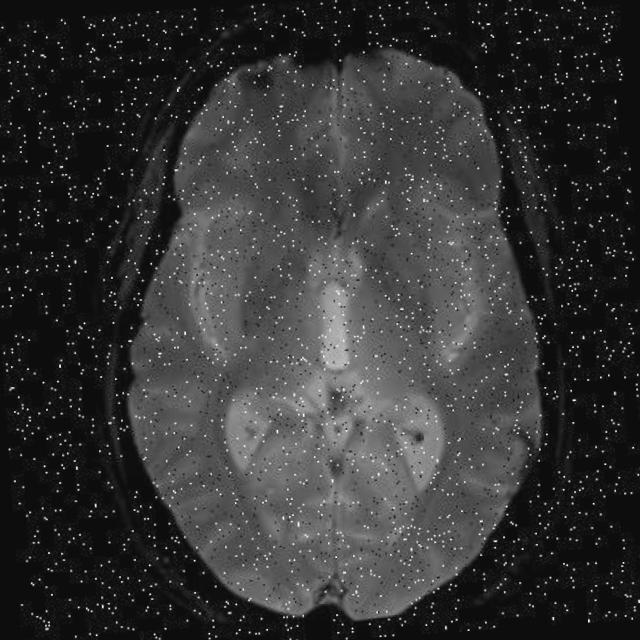MCI: (335, 204, 447, 368), (228, 212, 312, 360)
